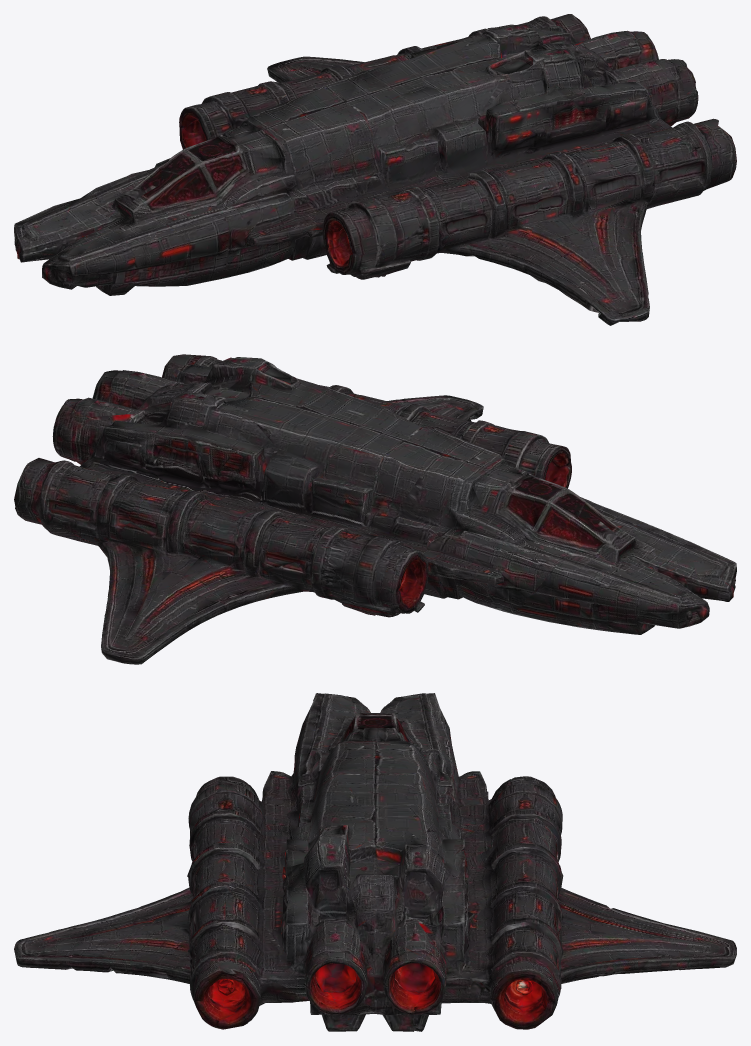
The model's file is cruise.glb.
3 views of the same model, one above another, from view 1: azimuth 30°, elevation 25°; view 2: azimuth 150°, elevation 25°; view 3: azimuth 270°, elevation 25° (orthographic). The views are drawn at different scales.
Visible parts, largest first — view 1: mesh_0; view 2: mesh_0; view 3: mesh_0.
Part boxes in pixels (x1=…): mesh_0: x1=14, y1=14, x2=736, y2=325; mesh_0: x1=14, y1=354, x2=736, y2=664; mesh_0: x1=14, y1=693, x2=736, y2=1031.
Bounding box in the file's own units: 1.9 × 0.4367 × 1.81.
Materials: 1 (1 with a texture image).
